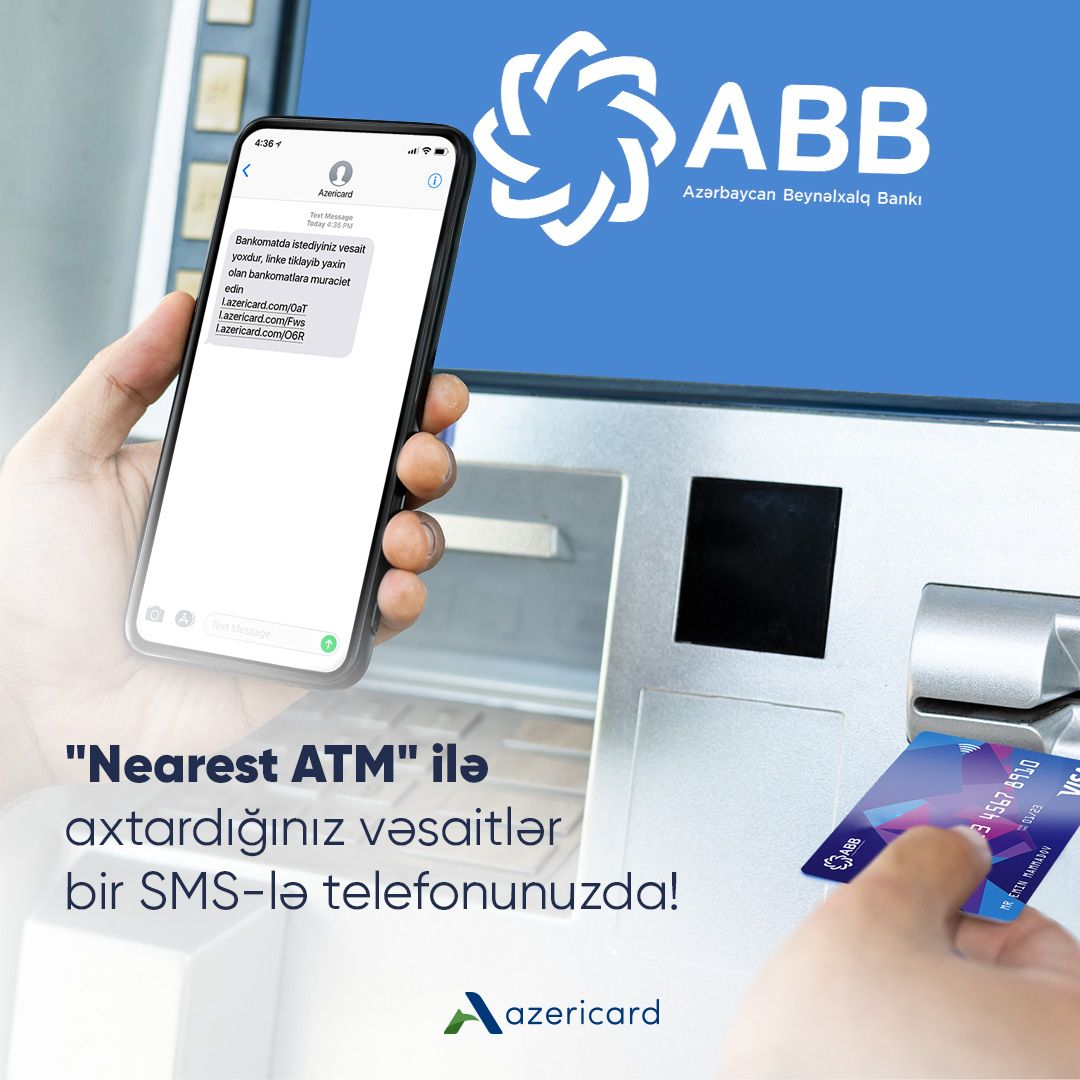ABB: (467, 25, 680, 252), (821, 852, 855, 873)
